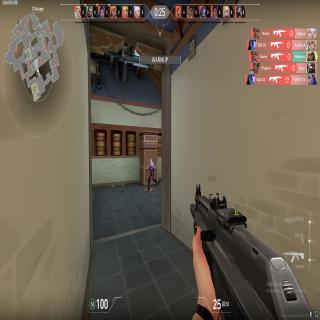ENEMY-BODY: (148, 158, 156, 190)
ENEMY-HEAD: (150, 158, 152, 164)
